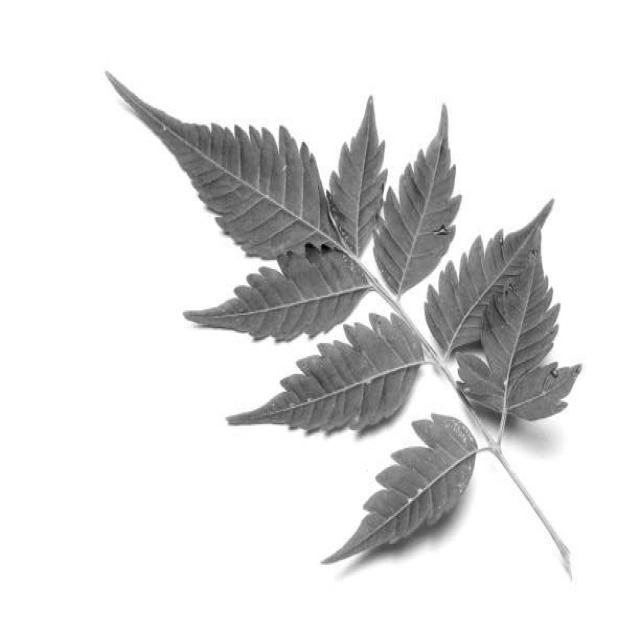Neem-Tree: (109, 77, 580, 561), (329, 415, 480, 559)
